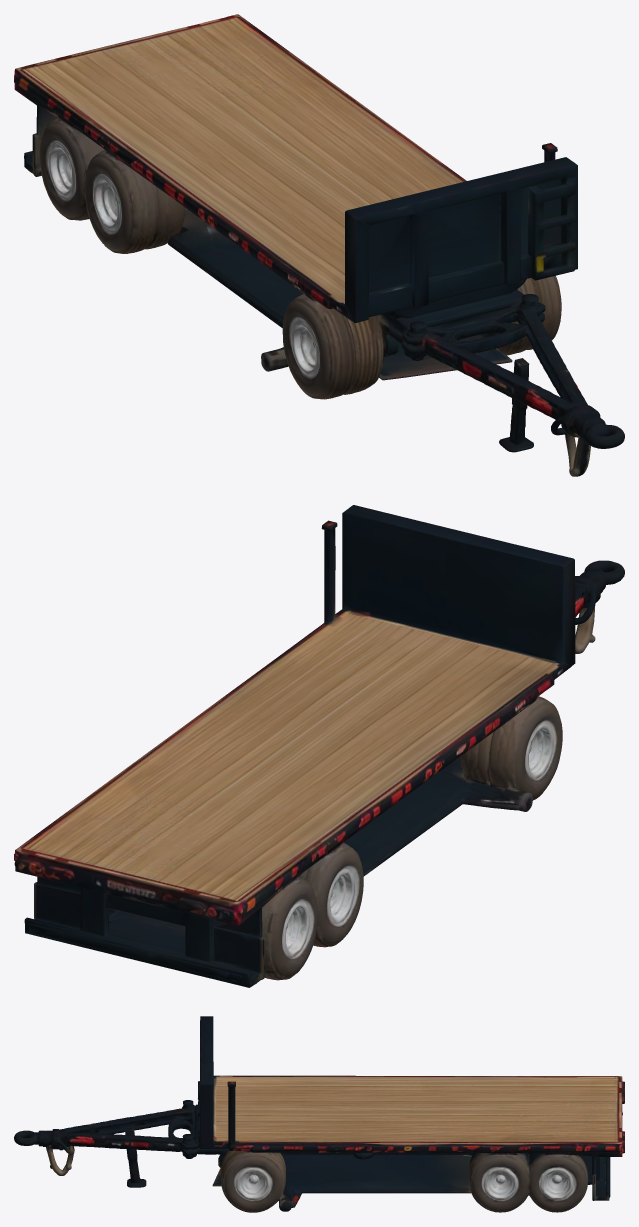
The picture shows the model from 3 angles, top to bottom: view 1: azimuth 30°, elevation 25°; view 2: azimuth 150°, elevation 25°; view 3: azimuth 270°, elevation 25°; orthographic projection. The views are drawn at different scales.
Parts seen in each view (by area): view 1: texture_pbr_v128; view 2: texture_pbr_v128; view 3: texture_pbr_v128.
Part boxes in pixels (box(x1,y1,x2,y2)): texture_pbr_v128: box(14, 14, 624, 476); texture_pbr_v128: box(14, 505, 624, 987); texture_pbr_v128: box(14, 1016, 624, 1212).
Bounding box in the file's own units: 0.3612 × 0.2851 × 1.17.
1 material, 1 textured.
